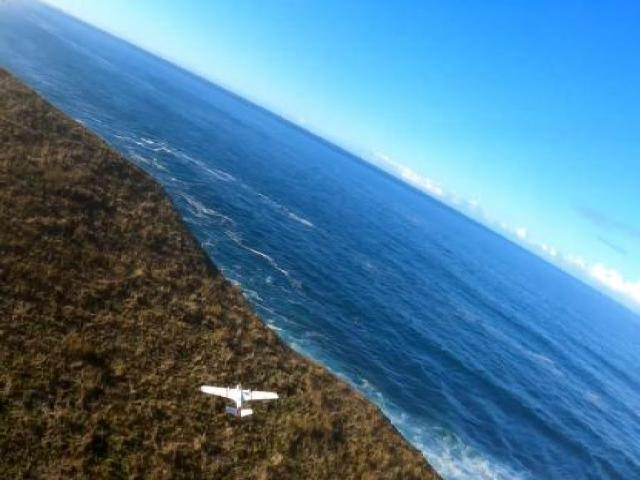uav: (198, 381, 280, 419)
